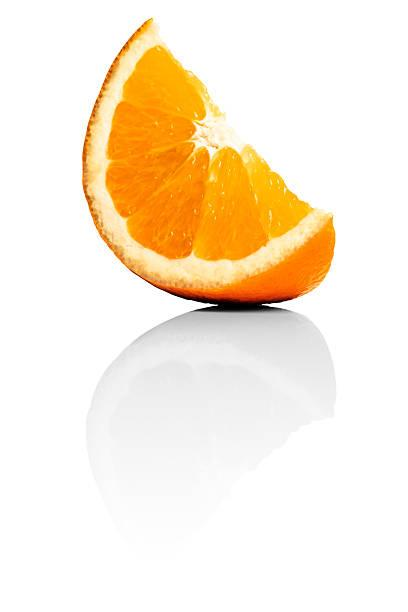orange: (70, 13, 349, 331)
